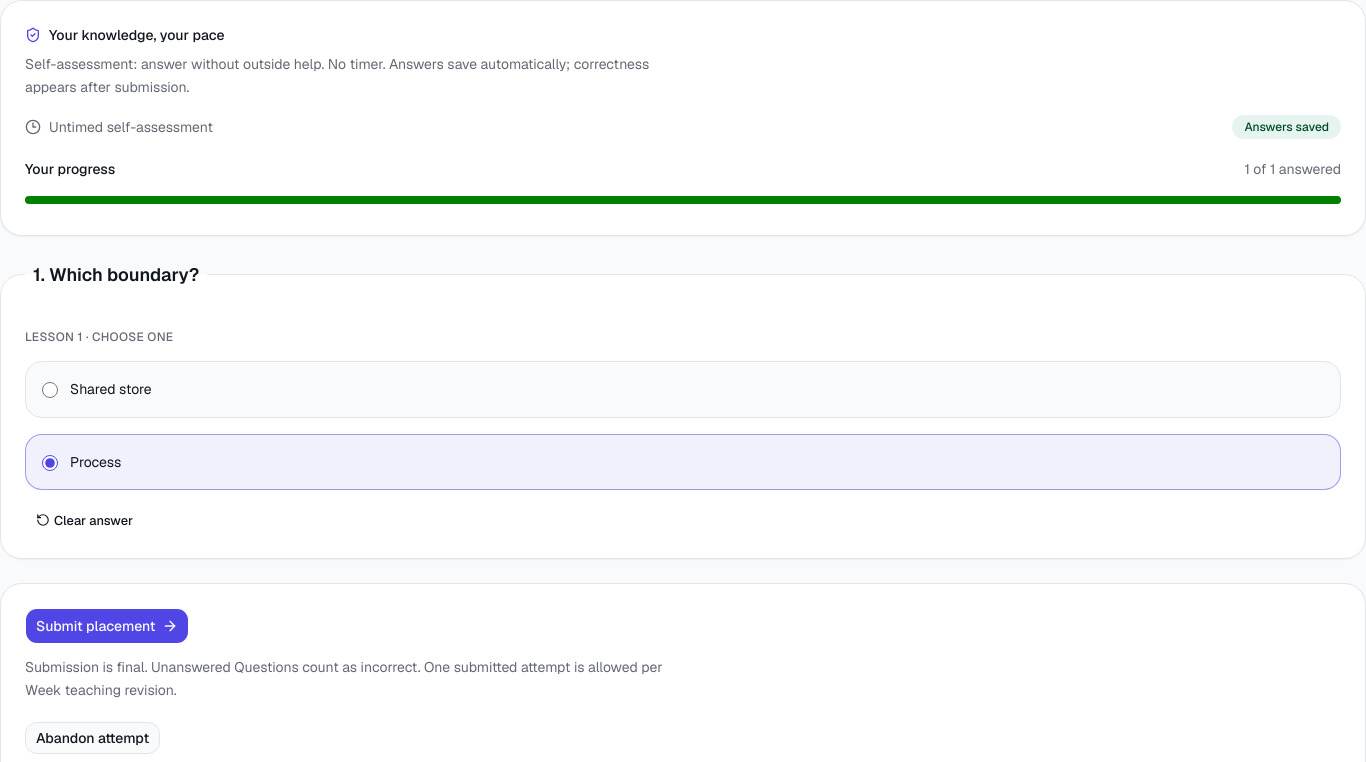
shows cancellation returned while saving and removes answer controls
This screenshot has width=1366, height=762.
Click the radio button labelled "Shared store" at coordinates (50, 390), box [42,382,58,398]
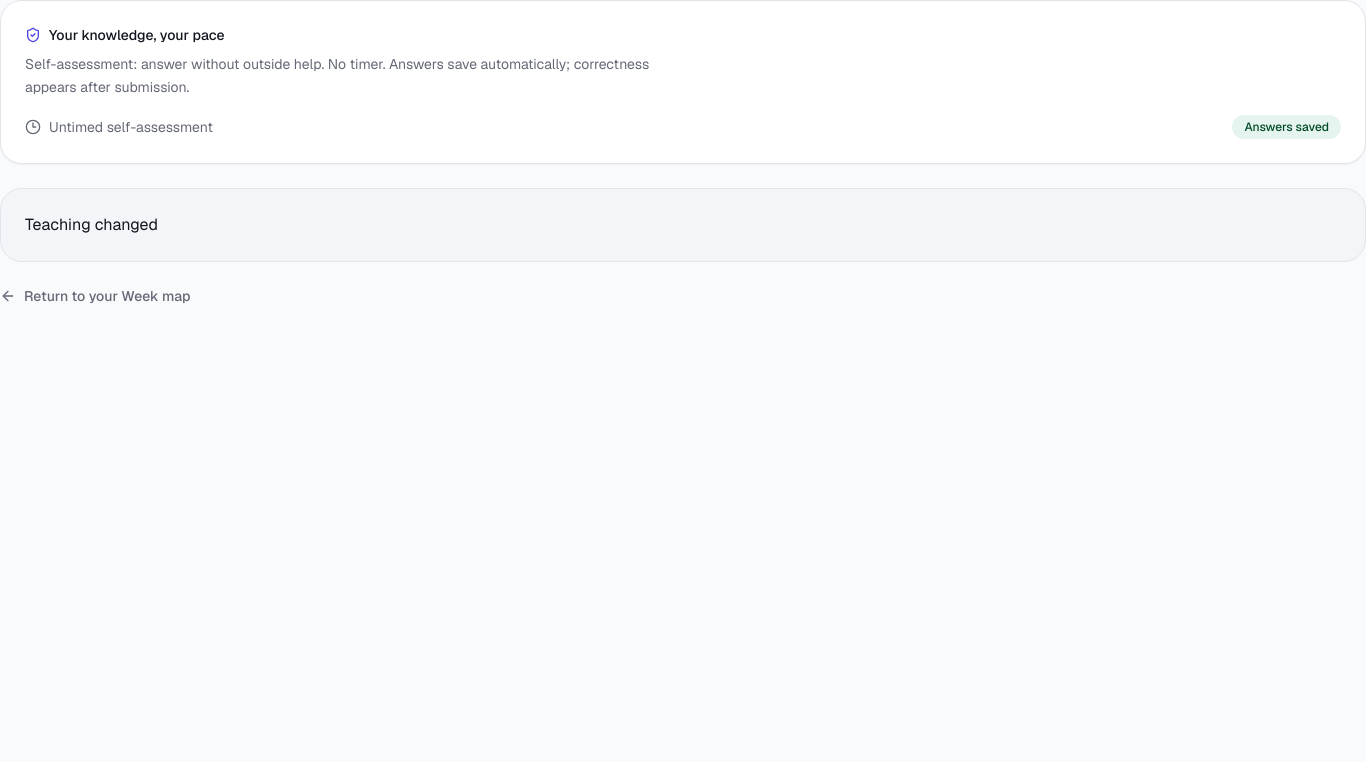
Now the text "Teaching changed" is shown, box [0,188,1365,262]
Now the radio button is gone
